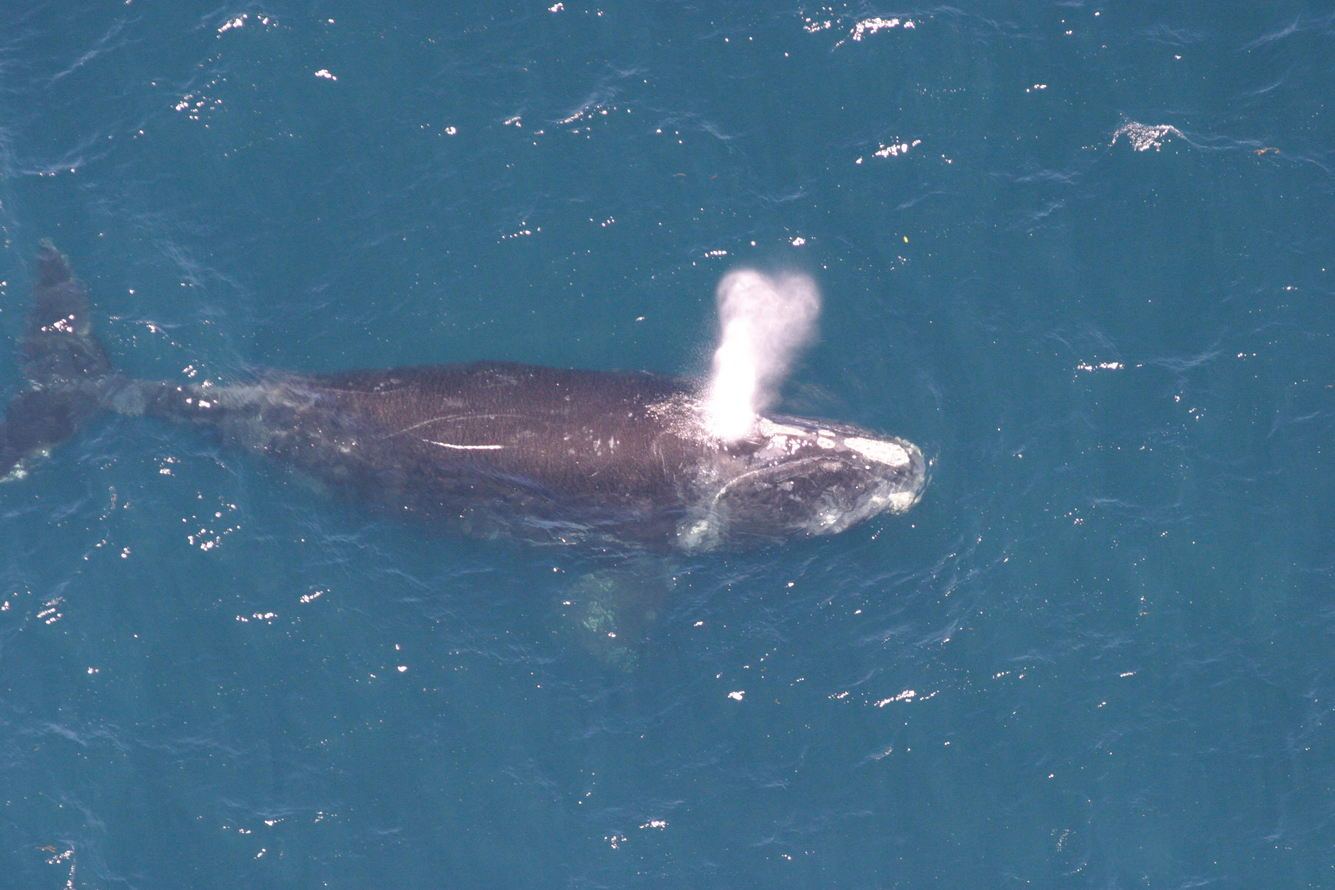whale: (0, 229, 939, 679)
